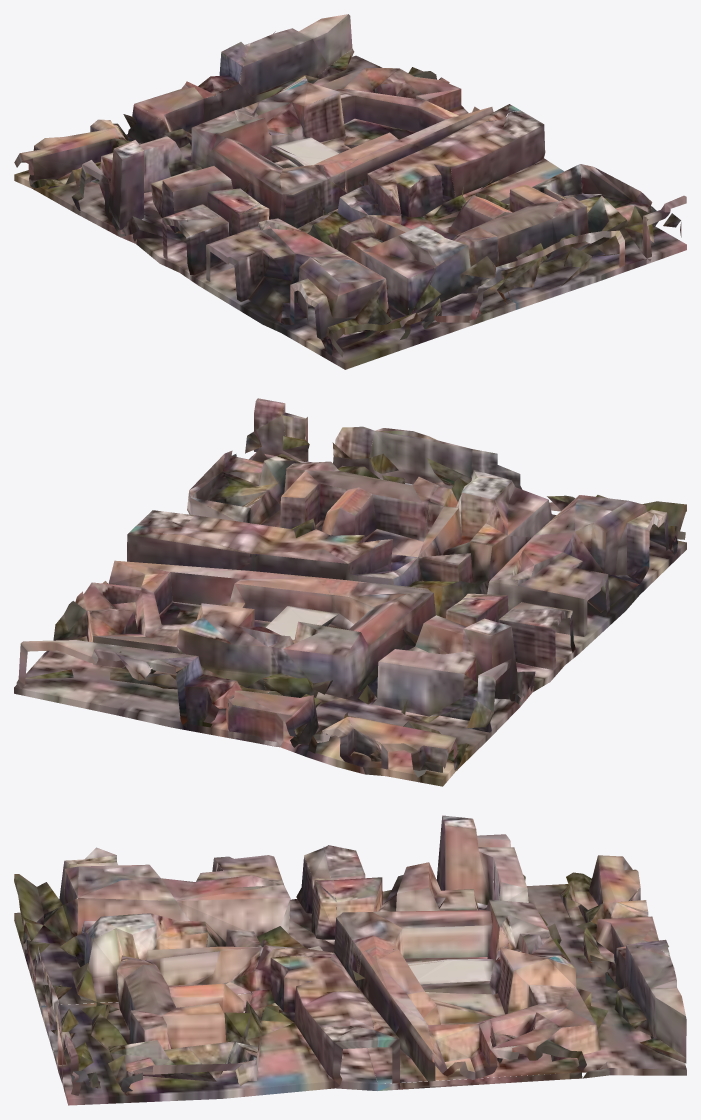
The picture shows the model from 3 angles, top to bottom: view 1: azimuth 30°, elevation 25°; view 2: azimuth 150°, elevation 25°; view 3: azimuth 270°, elevation 25°; orthographic projection. The views are drawn at different scales.
Visible parts, largest first — view 1: Mesh_0; view 2: Mesh_0; view 3: Mesh_0.
Part boxes in pixels (left/top/right/bottom): Mesh_0: left=14, top=14, right=686, bottom=369; Mesh_0: left=14, top=398, right=686, bottom=786; Mesh_0: left=14, top=815, right=686, bottom=1105.
Bounding box in the file's own units: 266 × 49.71 × 330.
Materials: 2 (2 with a texture image).
